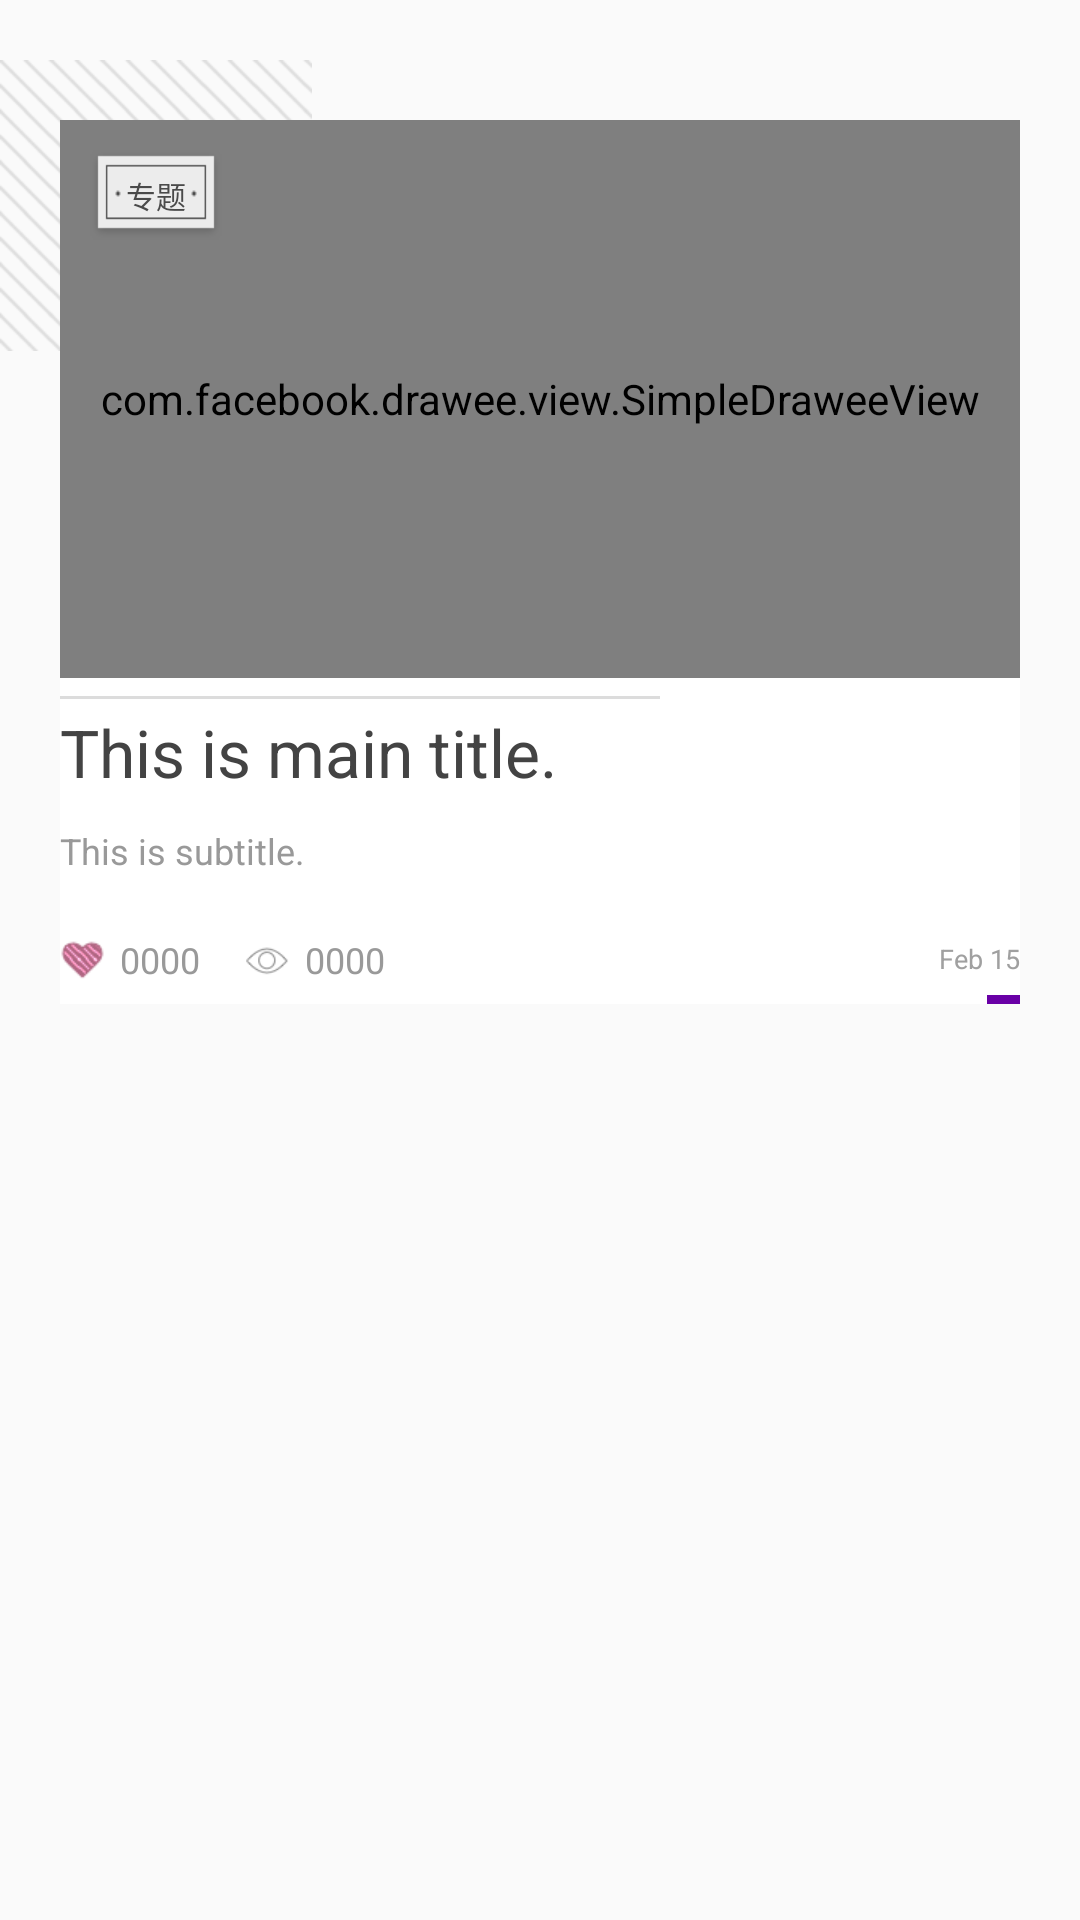

Point at icon controls on the screen. Image size 1080 × 1920, points as [x,y].
home card heart hl: [82,960]
home eye nor: [267,960]
